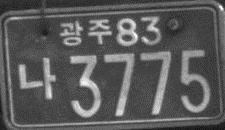3: (67, 54, 102, 118), (139, 15, 161, 45)
5: (178, 48, 211, 114)
7: (101, 50, 136, 117), (137, 49, 172, 116)
8: (115, 17, 139, 48)
광주_O: (57, 17, 112, 48)
나: (16, 55, 56, 101)
